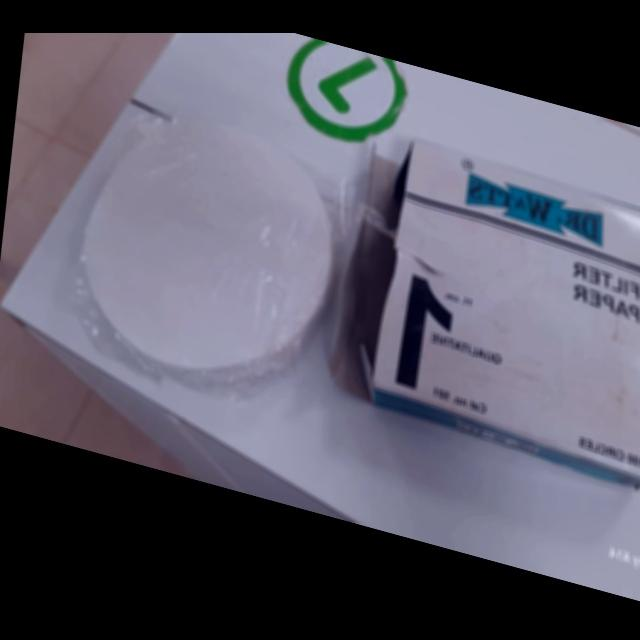Filter paper: (71, 85, 345, 414)
